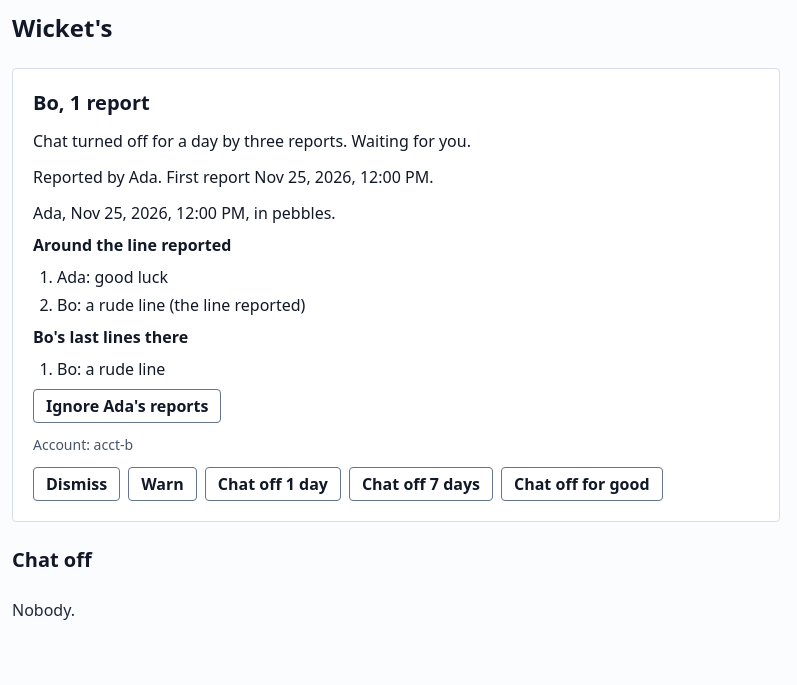
it: the chat reports page › a case is a heading with its lines, and an action says what it did
The image size is (797, 685).
Expected: the heading "Bo, 1 report" is shown, [33,89,150,116]
Expected: the text "Chat turned off for a day by three reports. Waiting for you." is shown, [33,130,471,152]
What coordinates should you click on to do the following:
click the button with aria-label "Chat off 7 days: Bo"
I would click on:
 (421, 484)
Its box is [349,467,493,501].
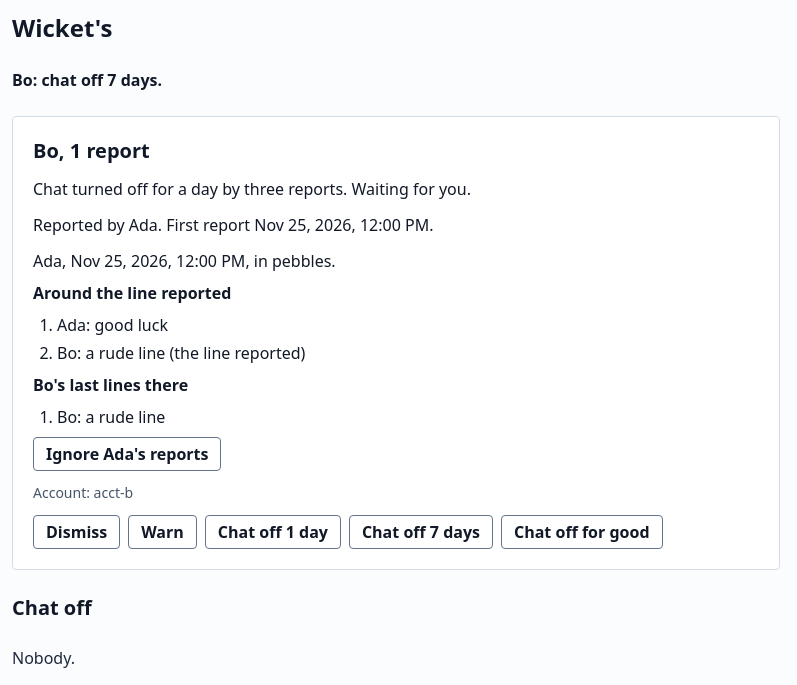
Result: the message reads "Bo: chat off 7 days." at [12,69,162,91]
